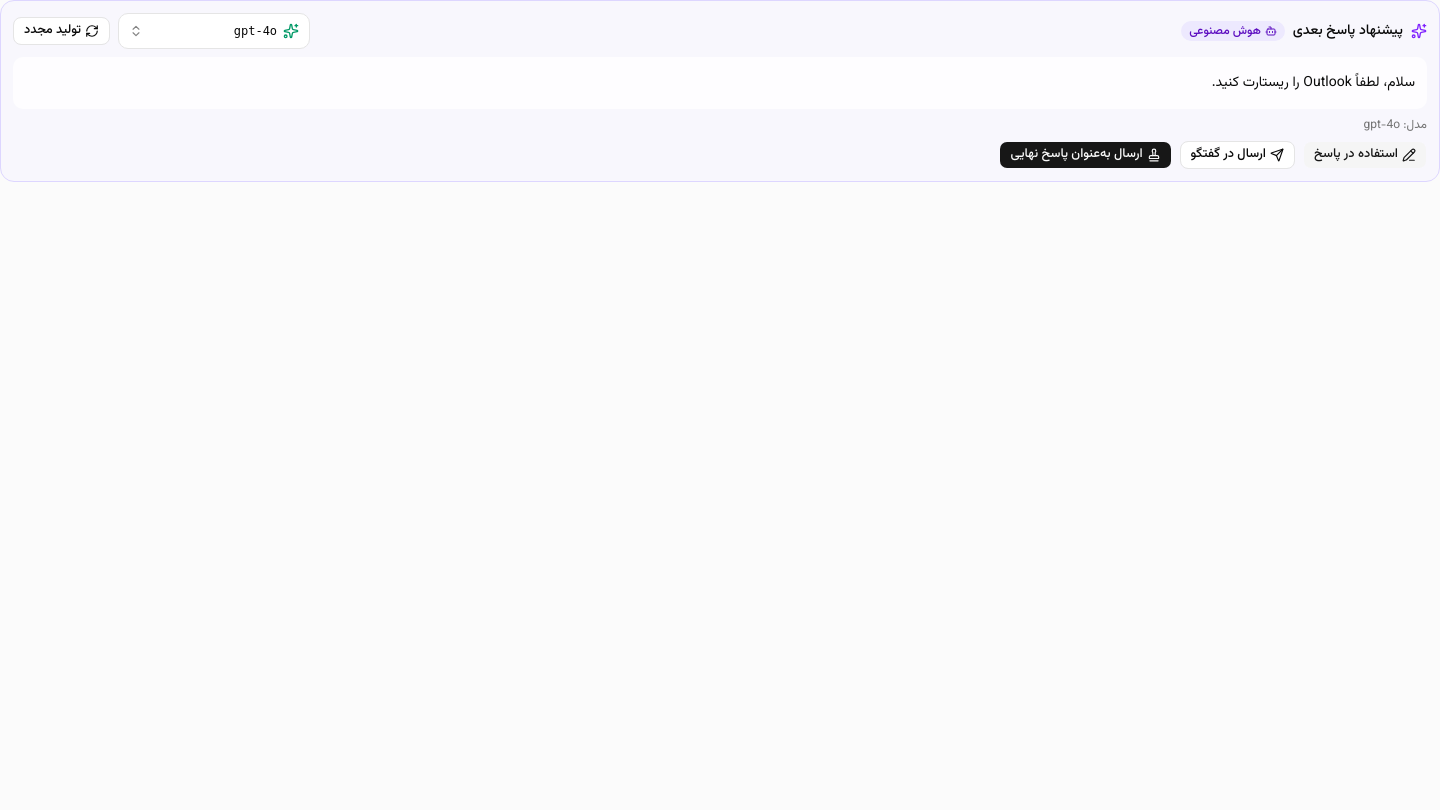
SuggestionPanel › sends the suggestion as a thread message only after confirmation, then marks it used
Click the button "ارسال در گفتگو": [1237, 155] box [1180,141,1295,169]
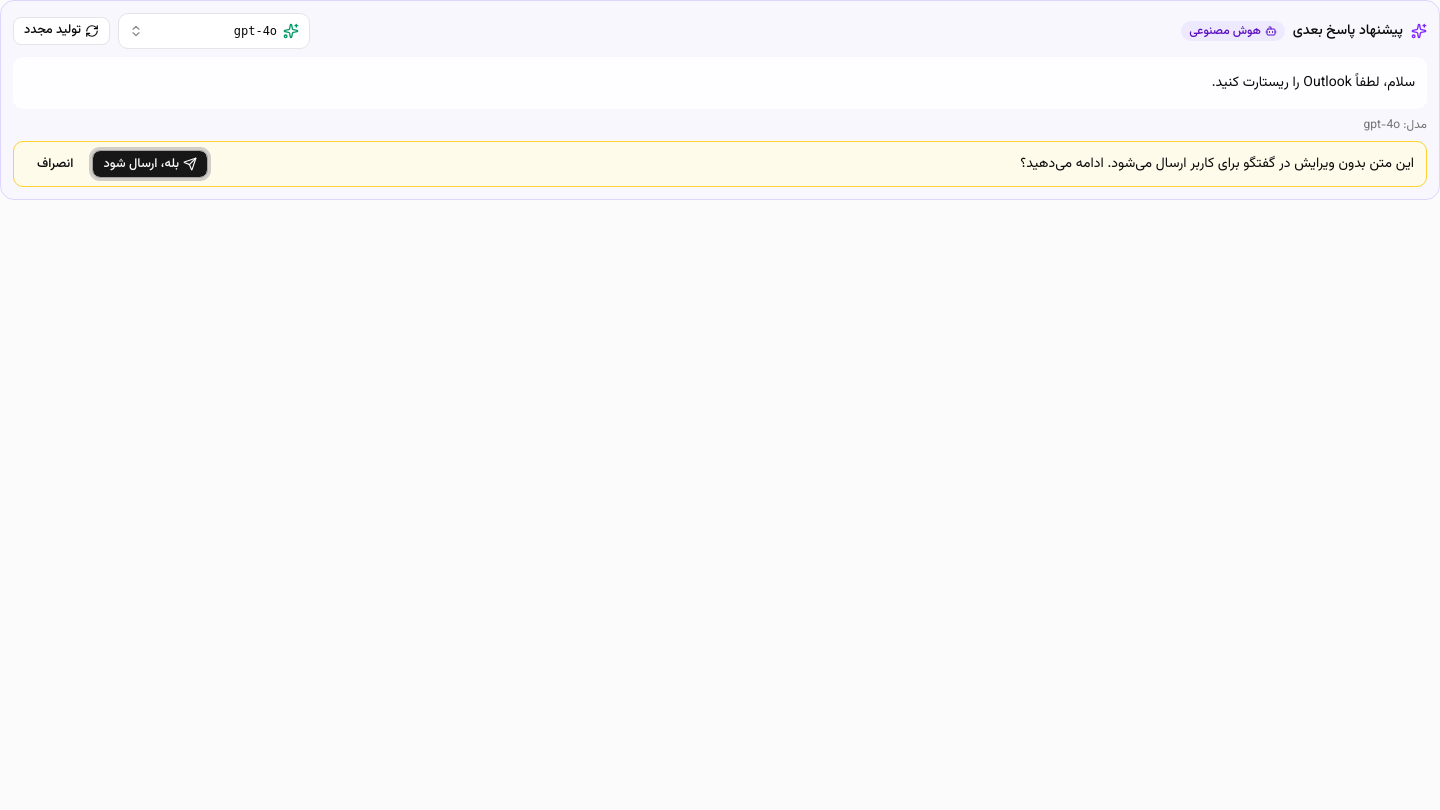
Click the button "بله، ارسال شود": [150, 164] box [92,150,208,178]
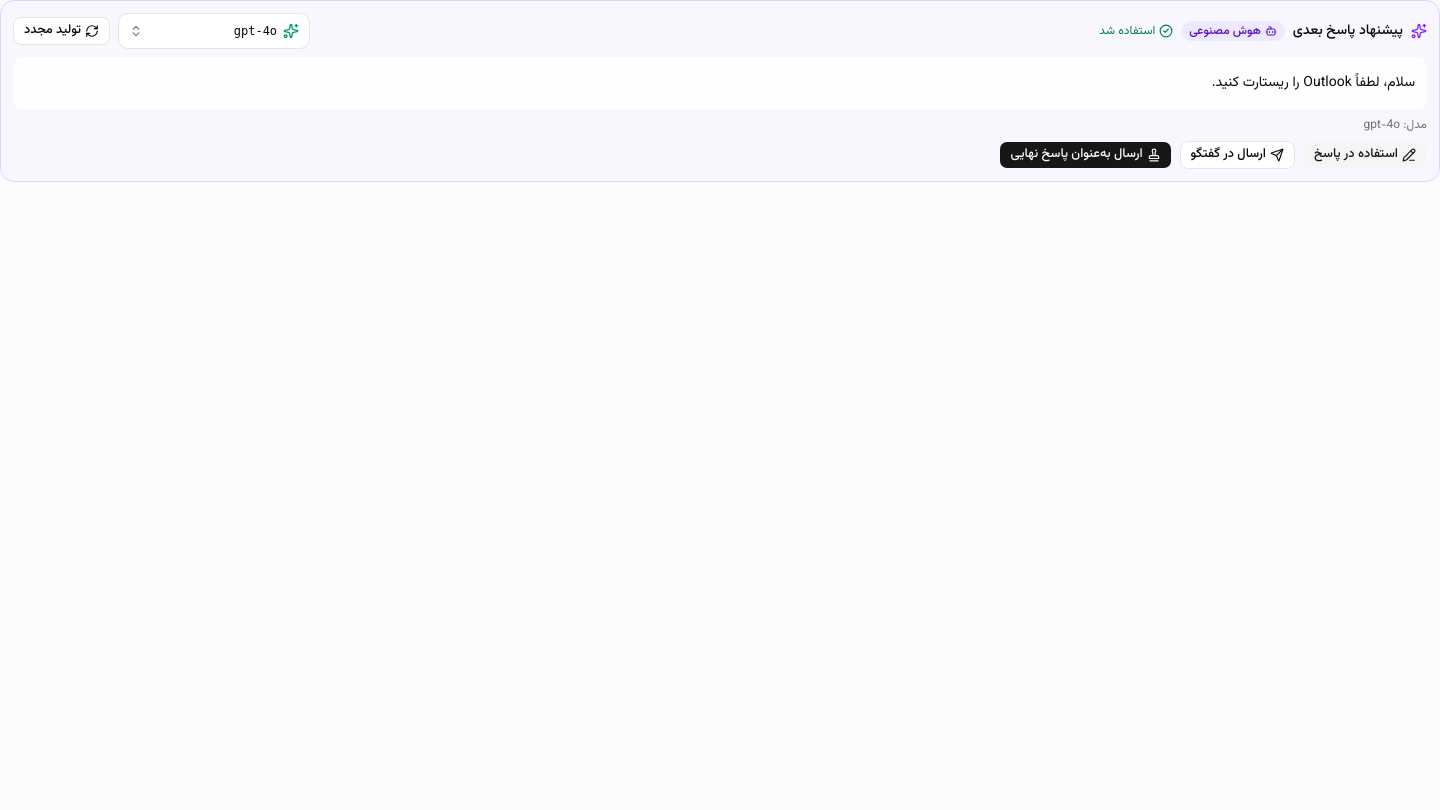
expect the element with test id "suggestion-used" is shown: met, box [1099,23,1173,39]
